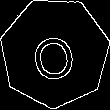O_N: (29, 24, 80, 82)
